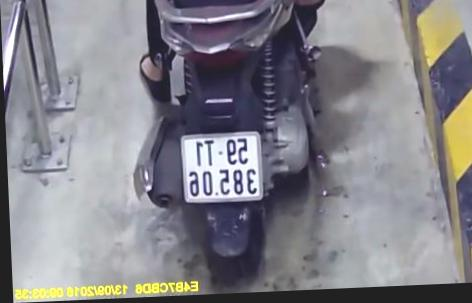License_Plate: (176, 125, 273, 212)
